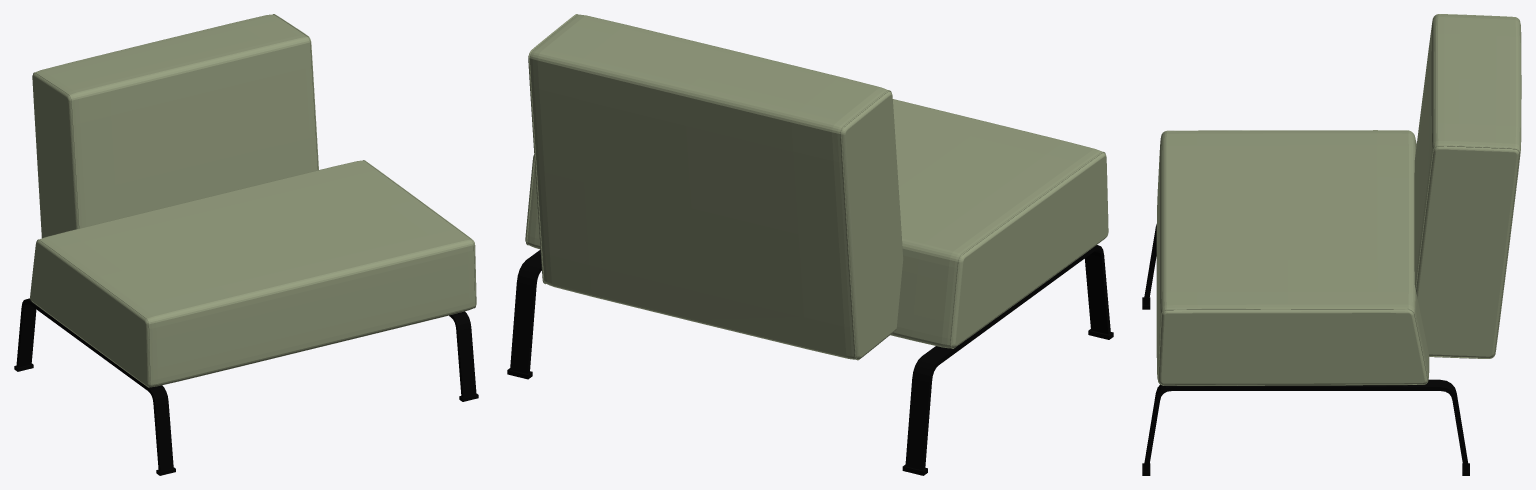
File: armchair.fbx
3 renders of one model, left to right at view 1: azimuth 30°, elevation 25°; view 2: azimuth 150°, elevation 25°; view 3: azimuth 270°, elevation 25°, orthographic. The views are drawn at different scales.
Visible parts, largest first — view 1: Seat1, armchair; view 2: Seat1, armchair; view 3: Seat1, armchair.
Part boxes in pixels (box(x1,y1,x2,y2)): Seat1: box(30, 14, 476, 387); armchair: box(14, 298, 478, 475); Seat1: box(525, 14, 1108, 360); armchair: box(507, 245, 1113, 475); Seat1: box(1156, 14, 1521, 385); armchair: box(1142, 224, 1469, 475).
Bounding box in the file's own units: 990 × 792 × 877.
